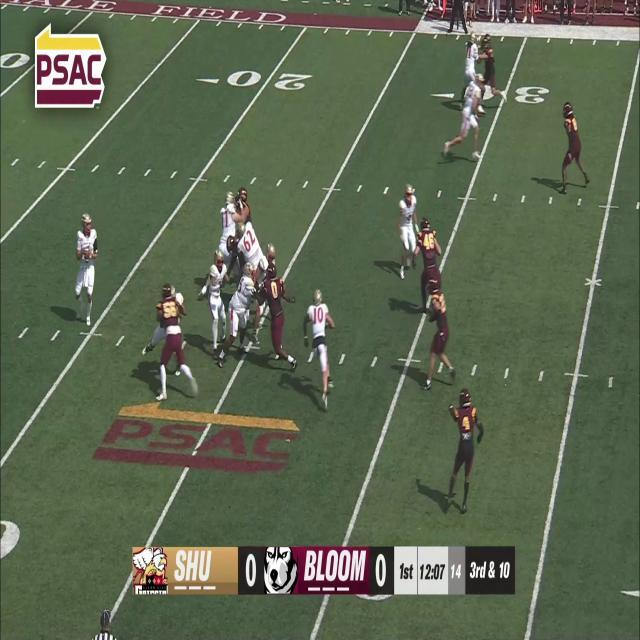football: (82, 246, 90, 263)
